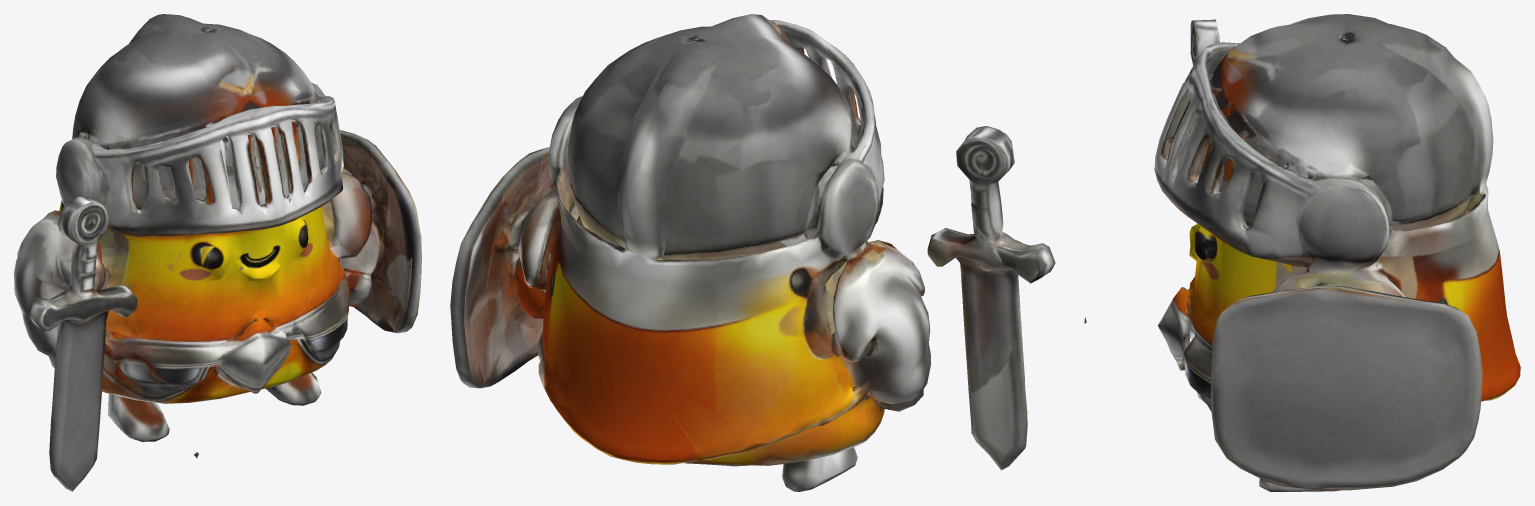
File: Jelly_The_Knight_0210174028_texture.fbx
The picture shows the model from 3 angles, left to right: view 1: azimuth 30°, elevation 25°; view 2: azimuth 150°, elevation 25°; view 3: azimuth 270°, elevation 25°; orthographic projection. The views are drawn at different scales.
Parts seen in each view (by area): view 1: Mesh1_Mesh1.004; view 2: Mesh1_Mesh1.004; view 3: Mesh1_Mesh1.004.
Part boxes in pixels (x1,y1,x2,y2): Mesh1_Mesh1.004: [14, 14, 421, 491]; Mesh1_Mesh1.004: [450, 14, 1055, 491]; Mesh1_Mesh1.004: [1084, 14, 1520, 491].
Size of the model in its own units: 201 by 176 by 164.
1 material, 1 textured.
